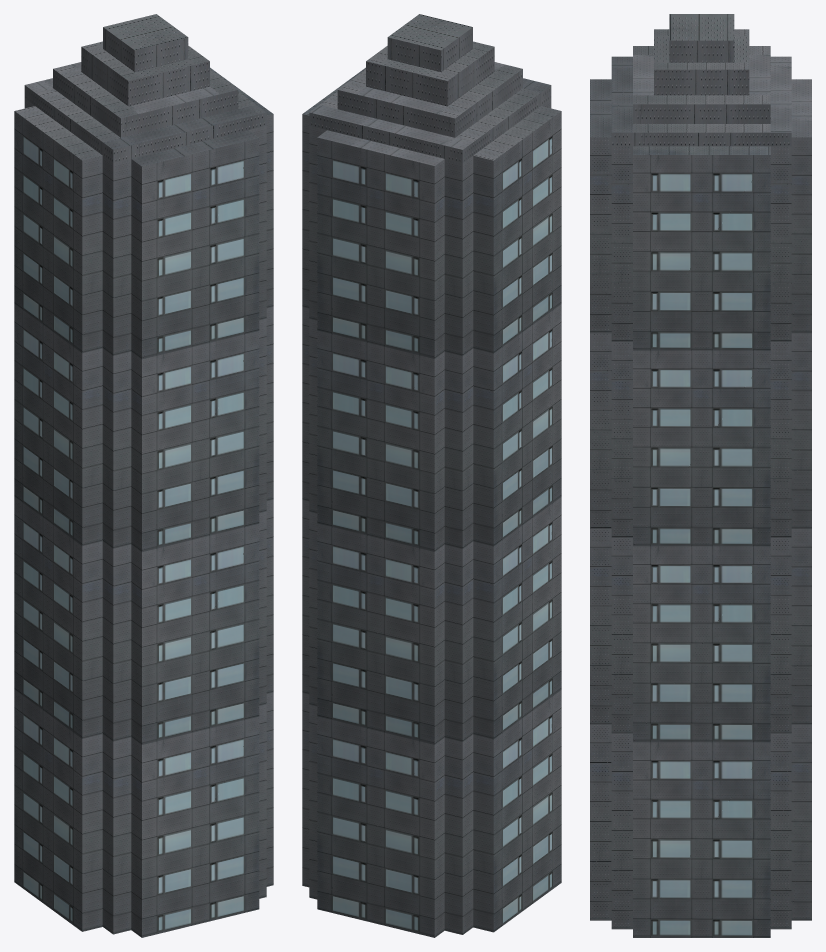
Rendered from skyscraper3.FBX.
3 renders of one model, left to right at view 1: azimuth 30°, elevation 25°; view 2: azimuth 150°, elevation 25°; view 3: azimuth 270°, elevation 25°, orthographic.
Visible parts, largest first — view 1: Box001; view 2: Box001; view 3: Box001.
Boxes of the visible parts, x1=… form: Box001: x1=14, y1=14, x2=273, y2=937; Box001: x1=302, y1=14, x2=561, y2=937; Box001: x1=590, y1=14, x2=811, y2=937.
Size of the model in its own units: 125 by 530 by 123.
